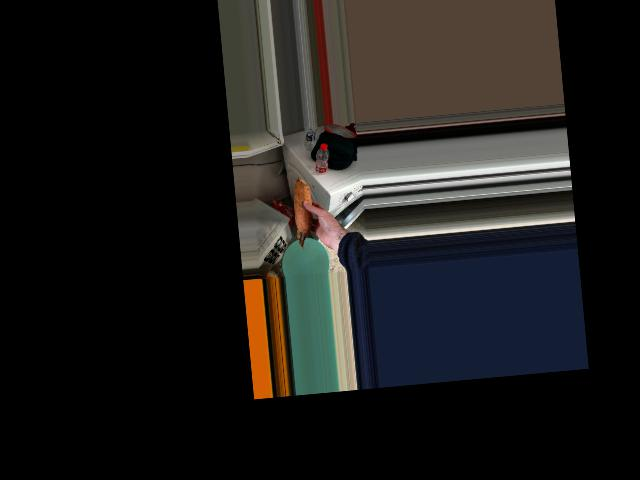sweet_potato: (290, 181, 320, 249)
